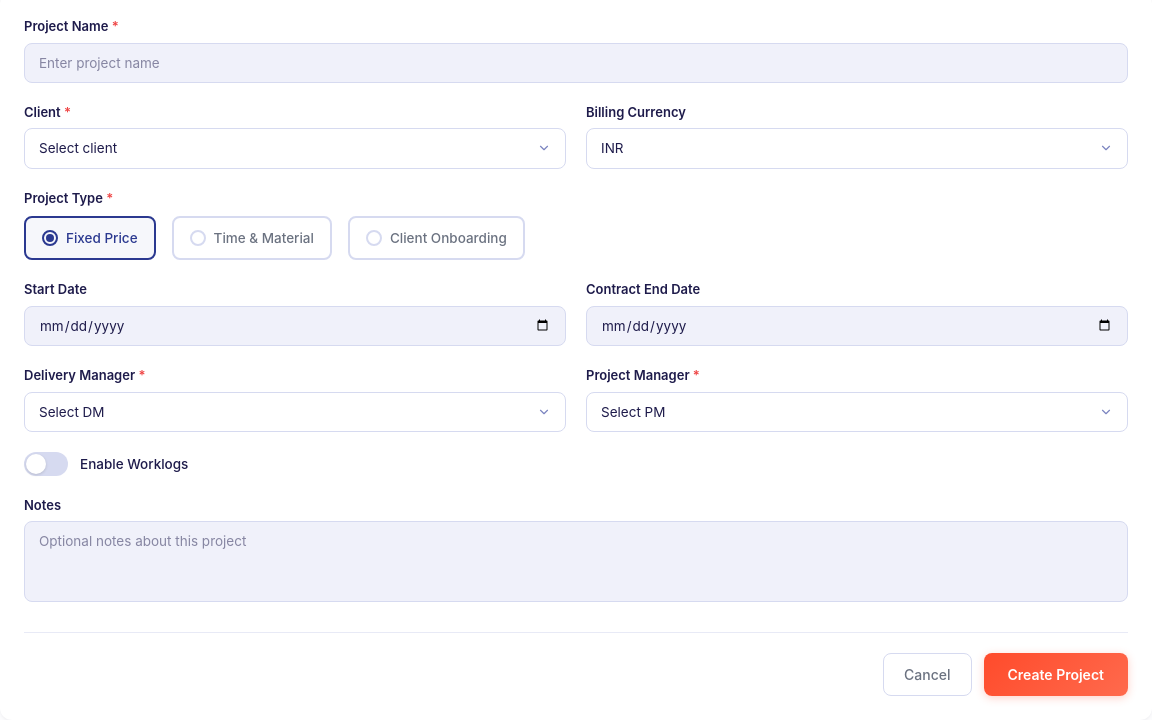
ProjectForm › shows validation errors on empty submit
(page scrolled)
Click the button "Create Project" at (1056, 674), box [984,653,1128,696]
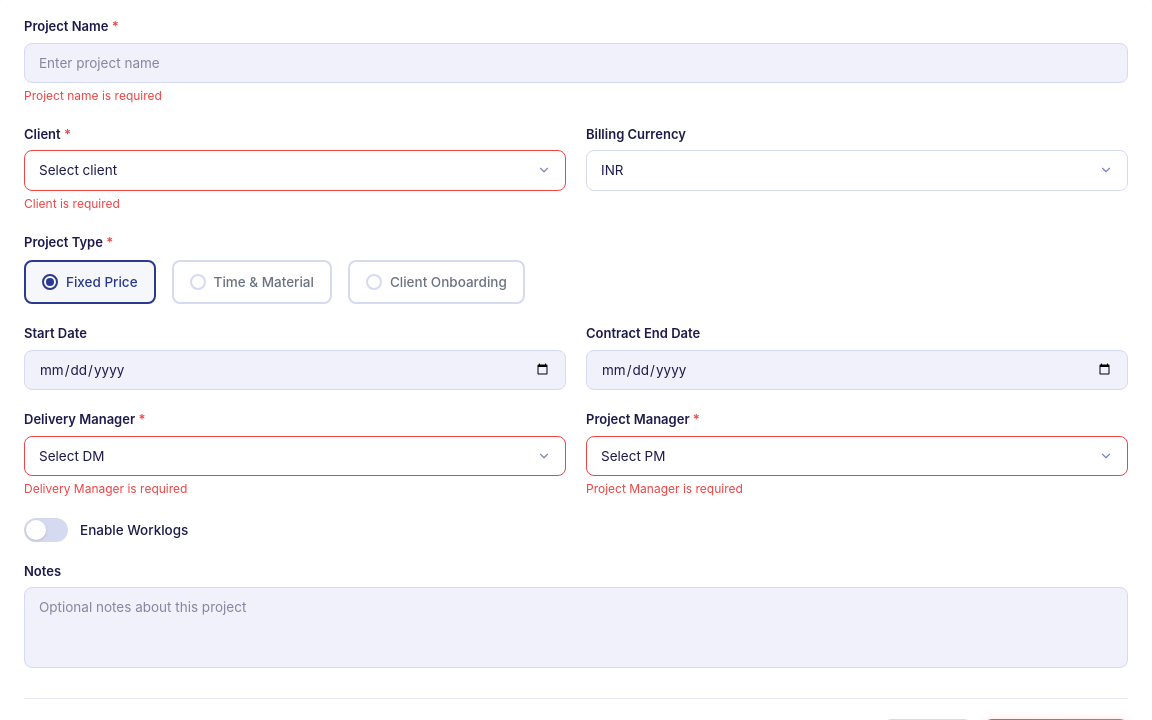
expect the text "Project name is required" is shown: met, box [24,88,162,103]
expect the text "Client is required" is shown: met, box [24,196,120,210]
